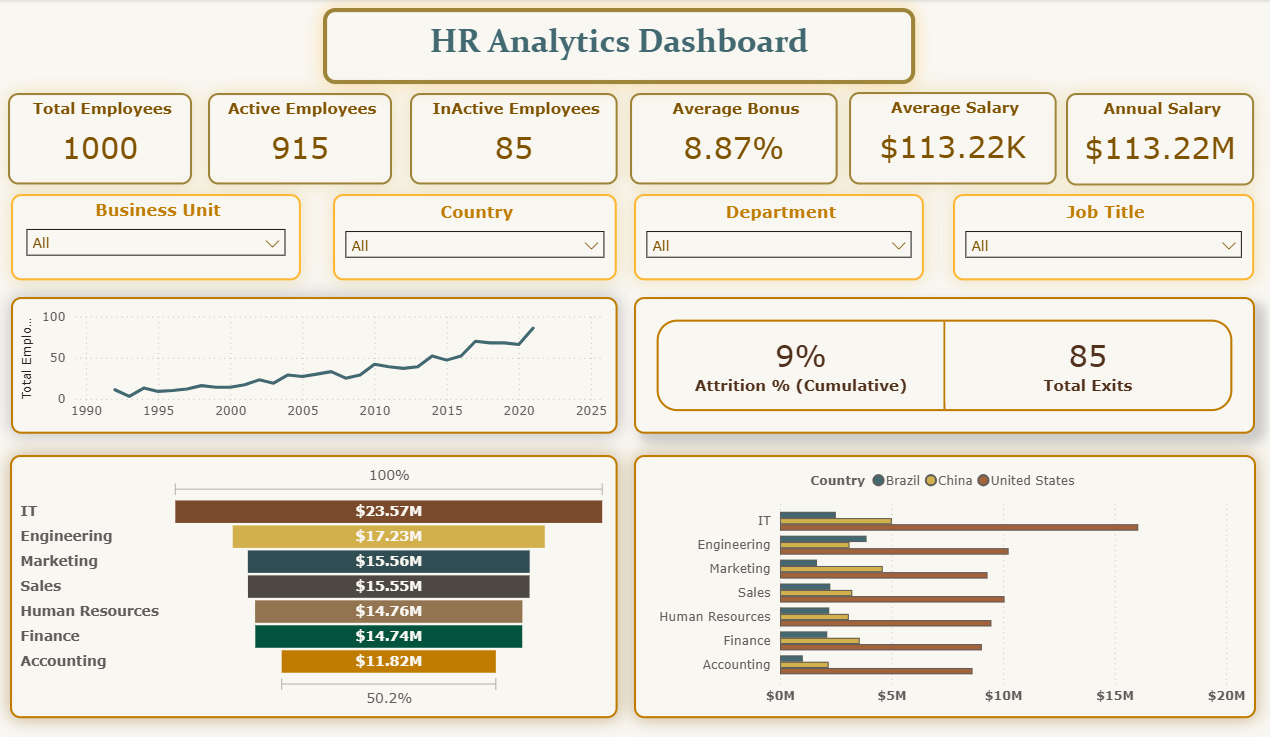

The page's visual inventory and layout, read from the dashboard file:
{"tool":"powerbi","page":{"name":"Page 1","canvas":[1280,720],"ordinal":0},"visuals":[{"type":"funnel","fields":{"Category":["HR_data_analysis_dataset xlsx - Data.Department","HR_data_analysis_dataset xlsx - Data.Country"],"Y":["Sum(HR_data_analysis_dataset xlsx - Data.Annual Salary)"]},"box":[19,444,591,256],"z":0},{"type":"textbox","box":[324,9,576,74],"z":1000},{"type":"slicer","title":"Business Unit","fields":{"Values":["HR_data_analysis_dataset xlsx - Data.Business Unit"]},"box":[20,190,282,84],"z":2000},{"type":"slicer","title":"Department","fields":{"Values":["HR_data_analysis_dataset xlsx - Data.Department"]},"box":[626,190,282,84],"z":3000},{"type":"slicer","title":"Country","fields":{"Values":["HR_data_analysis_dataset xlsx - Data.Country"]},"box":[334,190,276,84],"z":4000},{"type":"card","title":"Total Employees","fields":{"Values":["__newMeasures.Total Employees"]},"box":[17.9,91.6,179.3,88.7],"z":5000},{"type":"card","title":"Active Employees","fields":{"Values":["__newMeasures.Active Employees"]},"box":[212.2,91.6,179.3,88.7],"z":6000},{"type":"card","title":"Average Salary","fields":{"Values":["__newMeasures.Average Salary"]},"box":[835.7,90.6,202.2,89.6],"z":7000},{"type":"card","title":"Annual Salary","fields":{"Values":["Sum(HR_data_analysis_dataset xlsx - Data.Annual Salary)"]},"box":[1046.9,91.6,183.3,89.6],"z":8000},{"type":"slicer","title":"Job Title","fields":{"Values":["HR_data_analysis_dataset xlsx - Data.Job Title"]},"box":[937,190,293,84],"z":9000},{"type":"card","title":"InActive Employees","fields":{"Values":["__newMeasures.Not Active Employees"]},"box":[408.4,91.6,202.2,88.7],"z":10000},{"type":"card","title":"Average Bonus","fields":{"Values":["__newMeasures.Average Bonus %"]},"box":[622.6,91.6,202.2,88.7],"z":11000},{"type":"clusteredBarChart","fields":{"Category":["HR_data_analysis_dataset xlsx - Data.Department"],"Y":["Sum(HR_data_analysis_dataset xlsx - Data.Annual Salary)"],"Series":["HR_data_analysis_dataset xlsx - Data.Country"]},"box":[626,444,605,256],"z":12000},{"type":"lineChart","fields":{"Y":["__newMeasures.Total Employees"],"Category":["HR_data_analysis_dataset xlsx - Data.Hired Year"]},"box":[20,290,590,133],"z":13000},{"type":"cardVisual","fields":{"Data":["__newMeasures.Attrition % (Cumulative)","__newMeasures.Total Exits"]},"box":[626,290,604,133],"z":14000}]}

Visuals, with their boxes in screenshot pixels (x1, y1, x2, y2):
funnel - HR_data_analysis_dataset xlsx - Data.Department x HR_data_analysis_dataset xlsx - Data.Country: region(16, 450, 615, 710)
textbox: region(325, 9, 910, 84)
"Business Unit" slicer: region(17, 193, 303, 278)
"Department" slicer: region(632, 193, 918, 278)
"Country" slicer: region(336, 193, 615, 278)
"Total Employees" card: region(15, 93, 197, 183)
"Active Employees" card: region(212, 93, 394, 183)
"Average Salary" card: region(844, 92, 1050, 183)
"Annual Salary" card: region(1059, 93, 1245, 184)
"Job Title" slicer: region(947, 193, 1244, 278)
"InActive Employees" card: region(411, 93, 616, 183)
"Average Bonus" card: region(628, 93, 833, 183)
clusteredBarChart - HR_data_analysis_dataset xlsx - Data.Department x Sum(HR_data_analysis_dataset xlsx - Data.Annual Salary): region(632, 450, 1245, 710)
lineChart - __newMeasures.Total Employees x HR_data_analysis_dataset xlsx - Data.Hired Year: region(17, 294, 615, 429)
cardVisual - __newMeasures.Attrition % (Cumulative) x __newMeasures.Total Exits: region(632, 294, 1244, 429)
